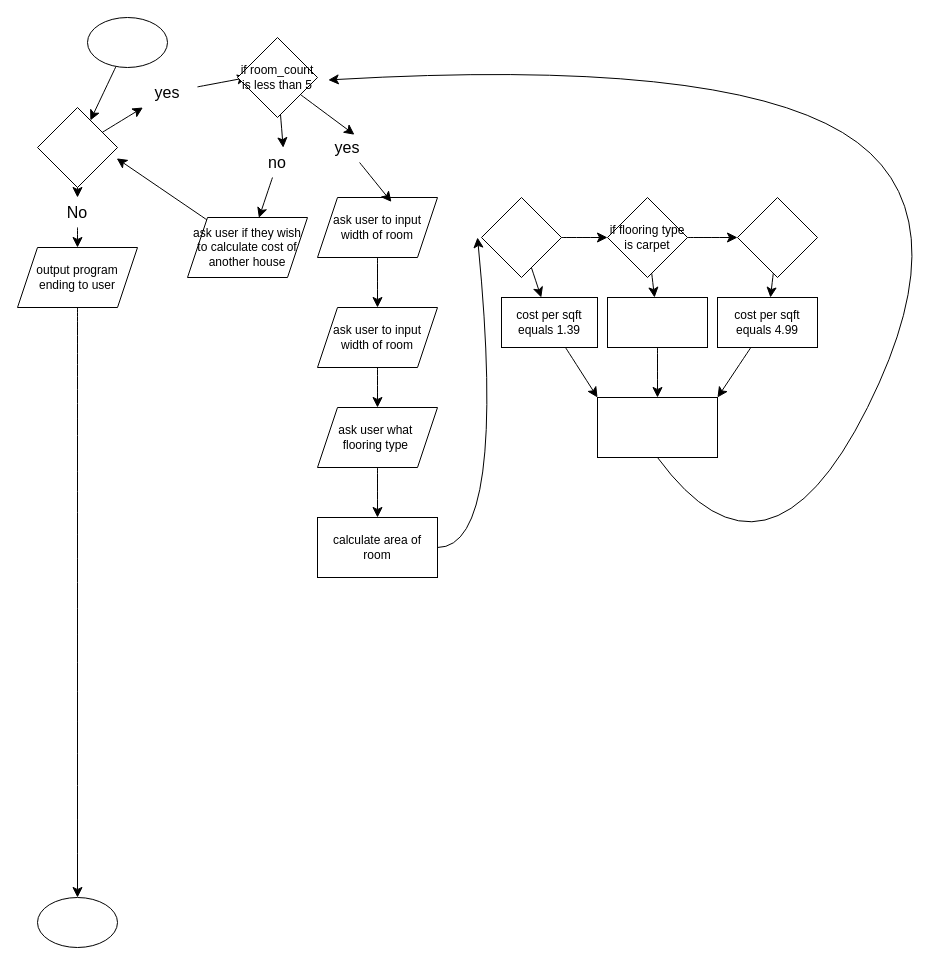
Some shapes in this 930 by 965 pixel diagram are drawn without their labels. Each missing label, with the centre of its shape:
"cost per sqft equals 3.99" goes at point 657,322.
"if check another equals yes" goes at point 77,147.
"if flooring type is hardwood" goes at point 521,237.
"multiply area times cost per sqft" goes at point 657,427.
"of flooring type is tile" goes at point 777,237.
